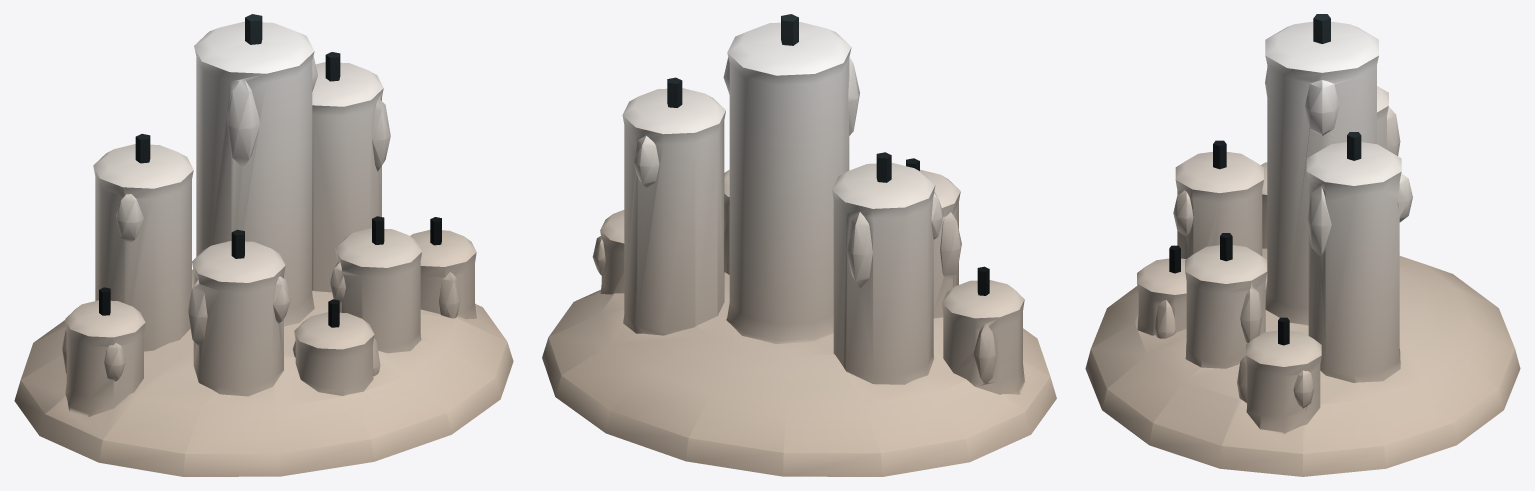
File: candle_pile.glb
3 renders of one model, left to right at view 1: azimuth 30°, elevation 25°; view 2: azimuth 150°, elevation 25°; view 3: azimuth 270°, elevation 25°, orthographic. The views are drawn at different scales.
Visible parts, largest first — view 1: candle_pile; view 2: candle_pile; view 3: candle_pile.
Boxes of the visible parts, left/top/right/bottom form: candle_pile: left=14, top=14, right=513, bottom=476; candle_pile: left=542, top=14, right=1056, bottom=476; candle_pile: left=1085, top=14, right=1520, bottom=476.
Size of the model in its own units: 1.6 by 1.21 by 1.36.
1 material, 1 textured.
